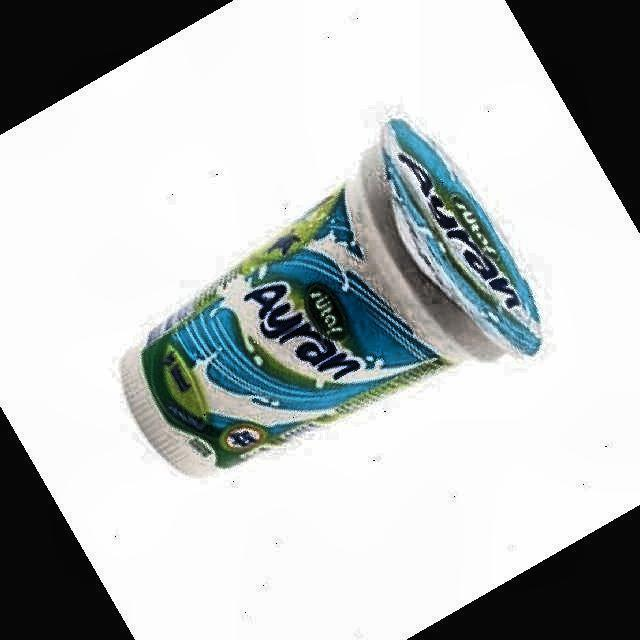plastic: (122, 120, 540, 474)
